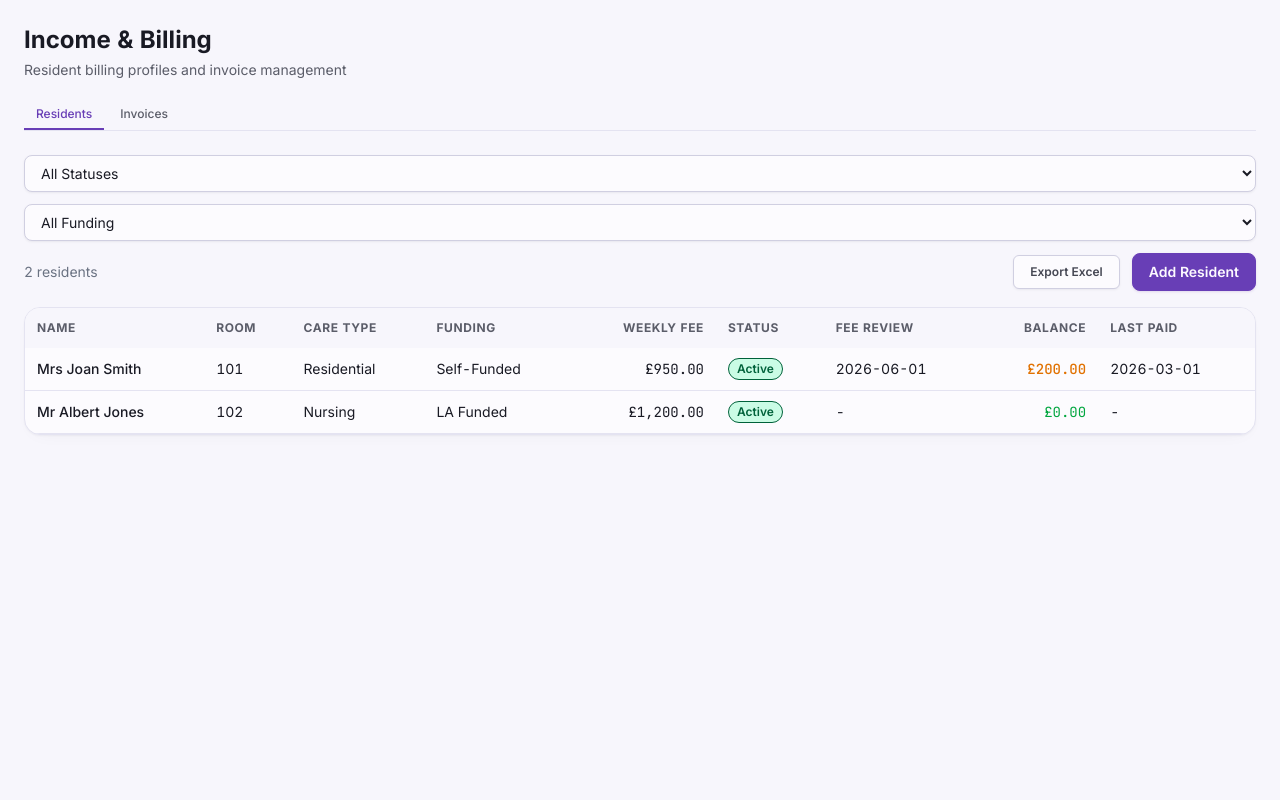
Test case: IncomeTracker › shows resident detail tabs in the resident edit modal
The image size is (1280, 800).
Click the text "Mrs Joan Smith" at (115, 369), box [25,348,204,390]
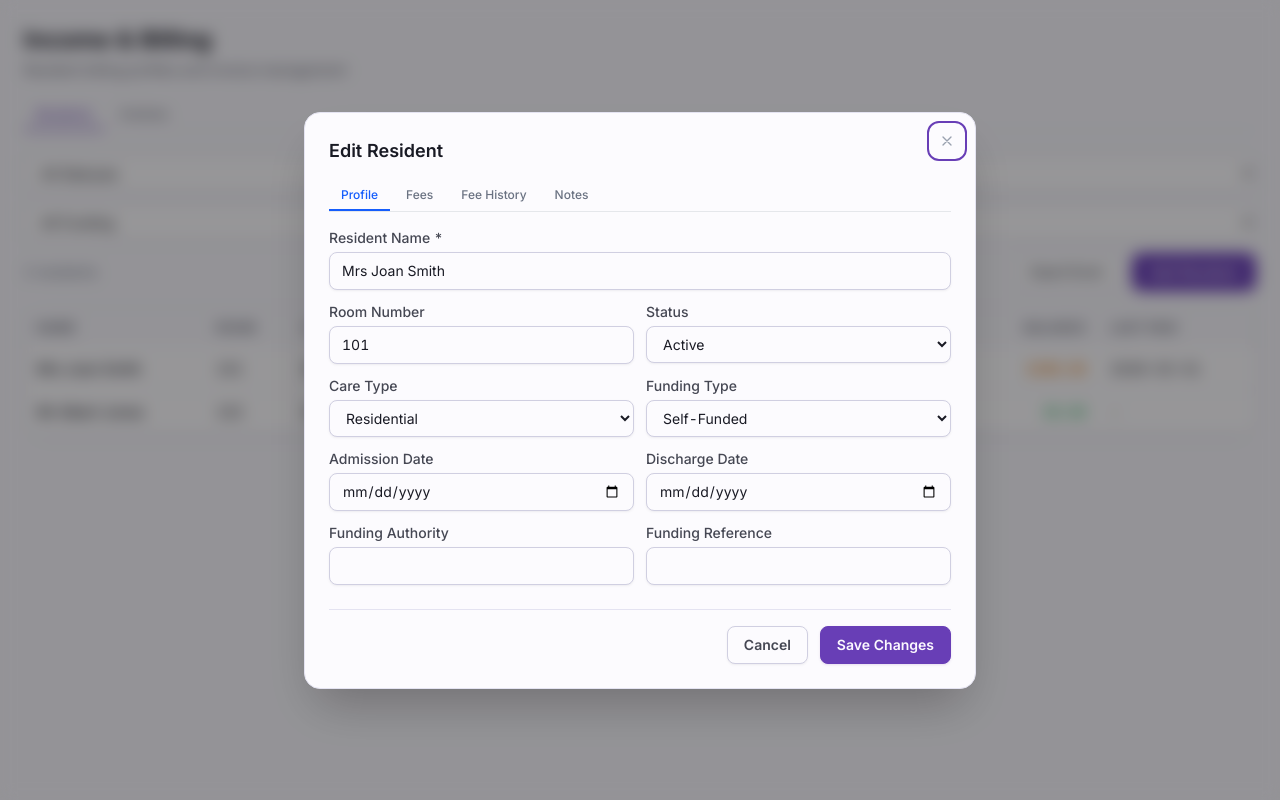
Check: the heading "Edit Resident" is shown, box [329,140,443,160]
Check: the button "Fee History" is shown, box [449,180,539,210]
Check: the button "Notes" is shown, box [543,180,600,210]
